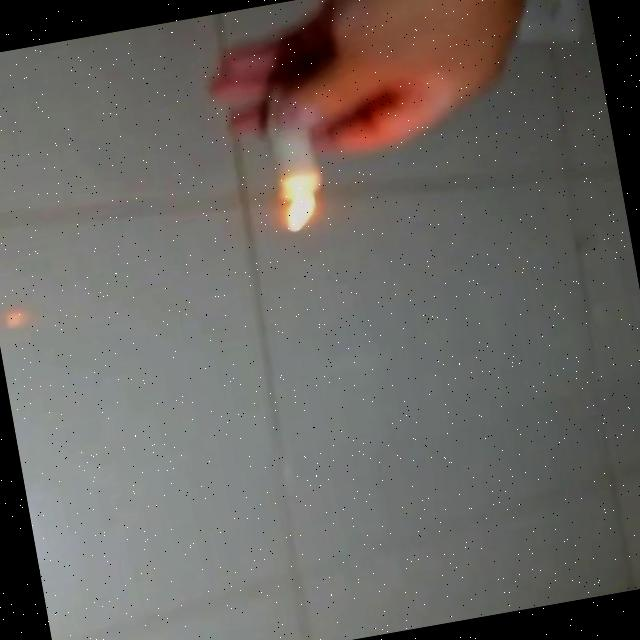fire: (278, 193, 324, 235)
